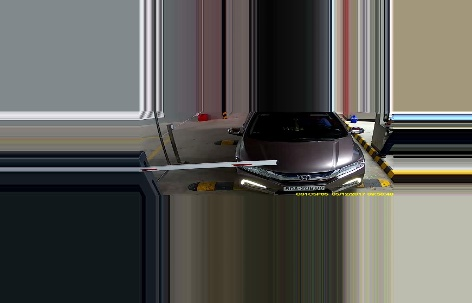plate: (284, 181, 324, 193)
